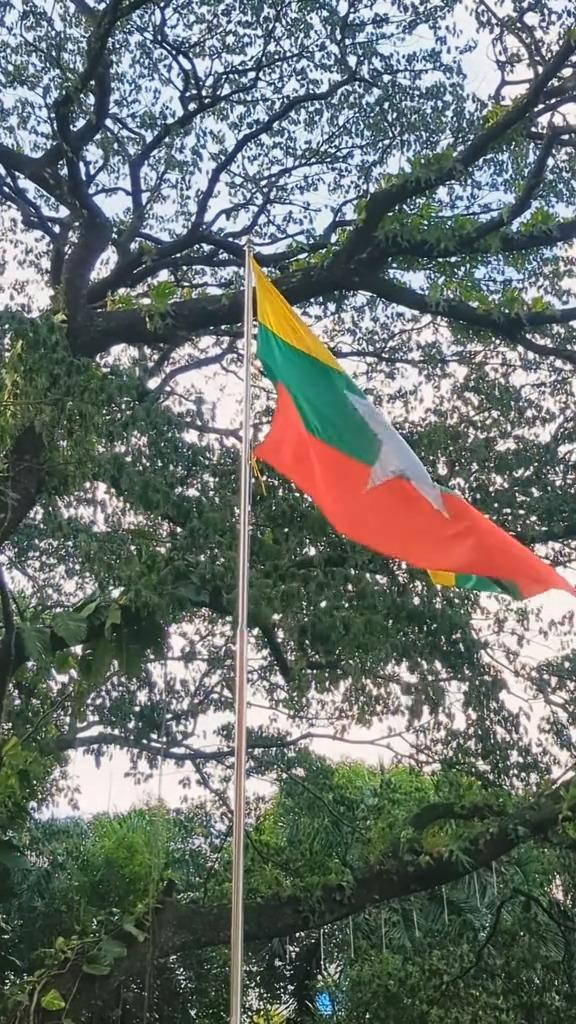Myanmar: (260, 271, 570, 597)
